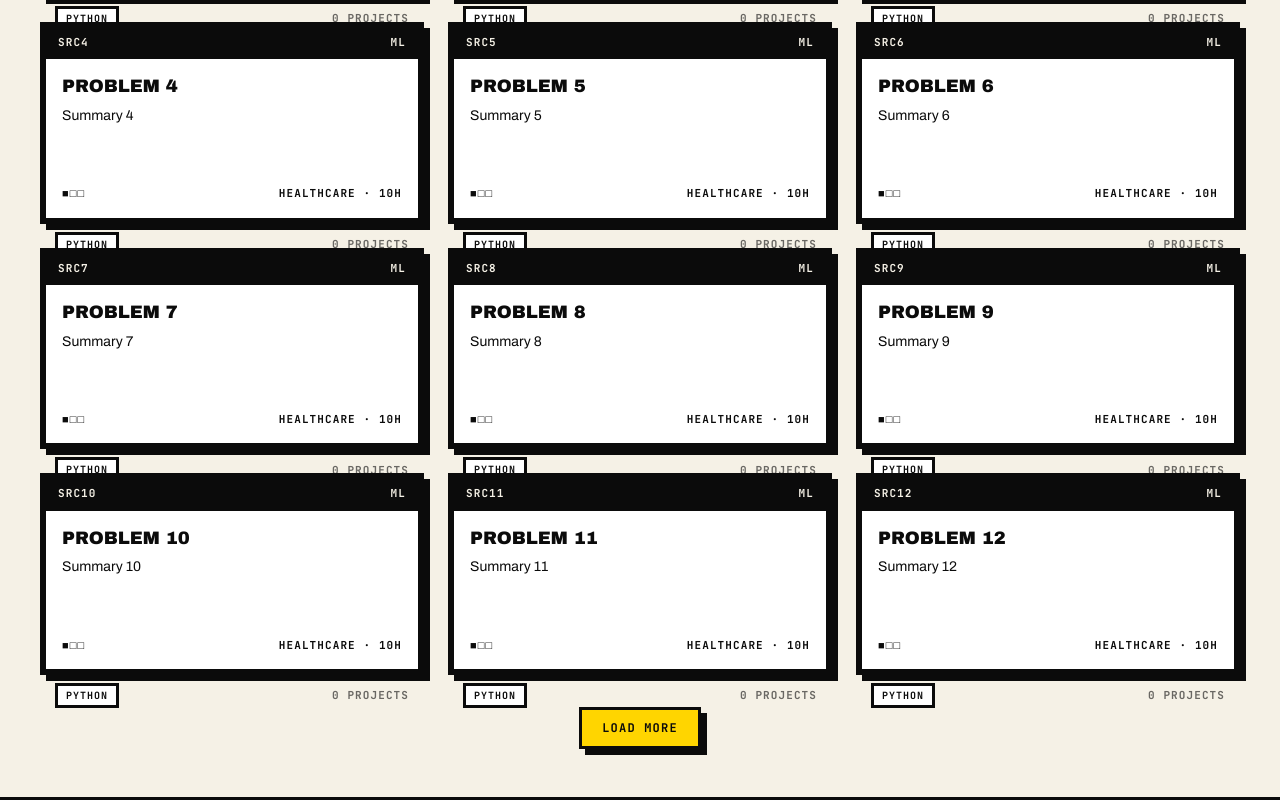
it: ProblemBoardPage › load more fetches the next page and then disappears
The width and height of the screenshot is (1280, 800).
(page scrolled)
Click the button "Load more": (640, 728) left=579, top=707, right=701, bottom=749
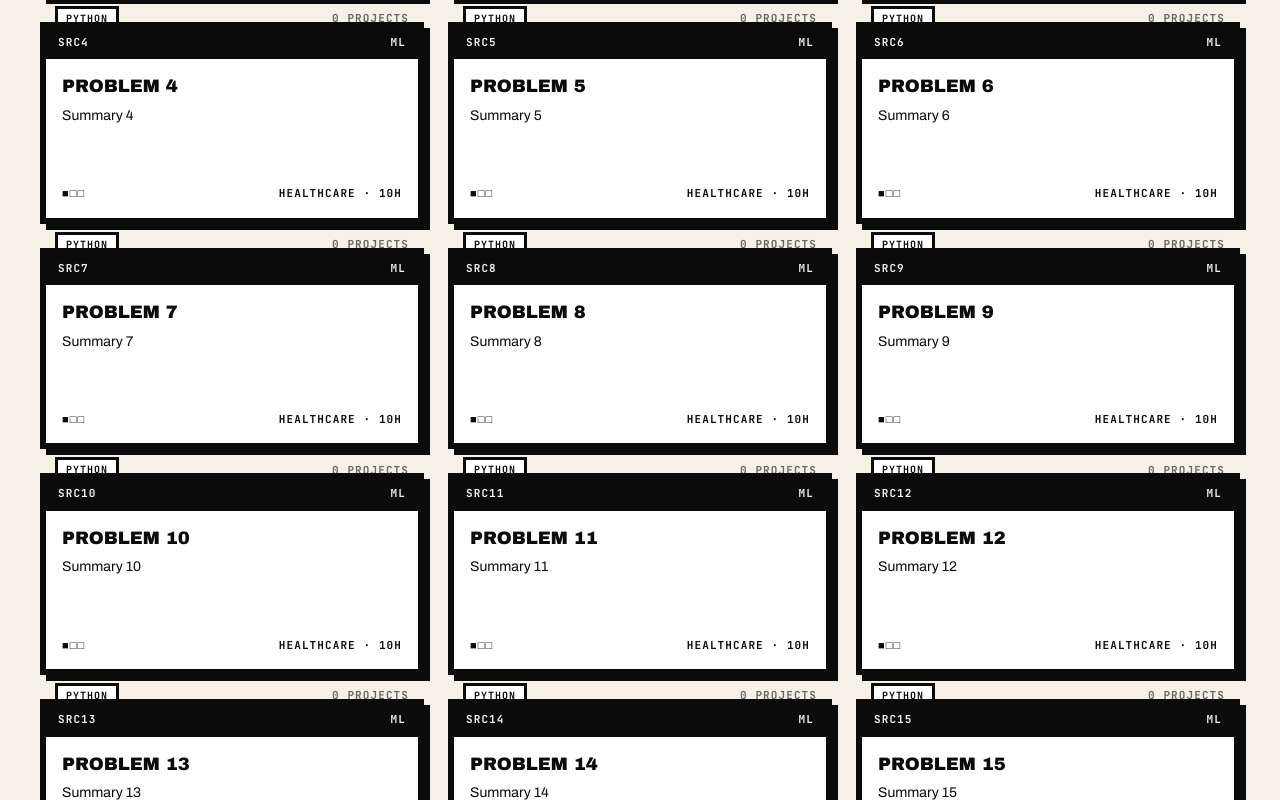
Expected: the button "Load more" is gone
